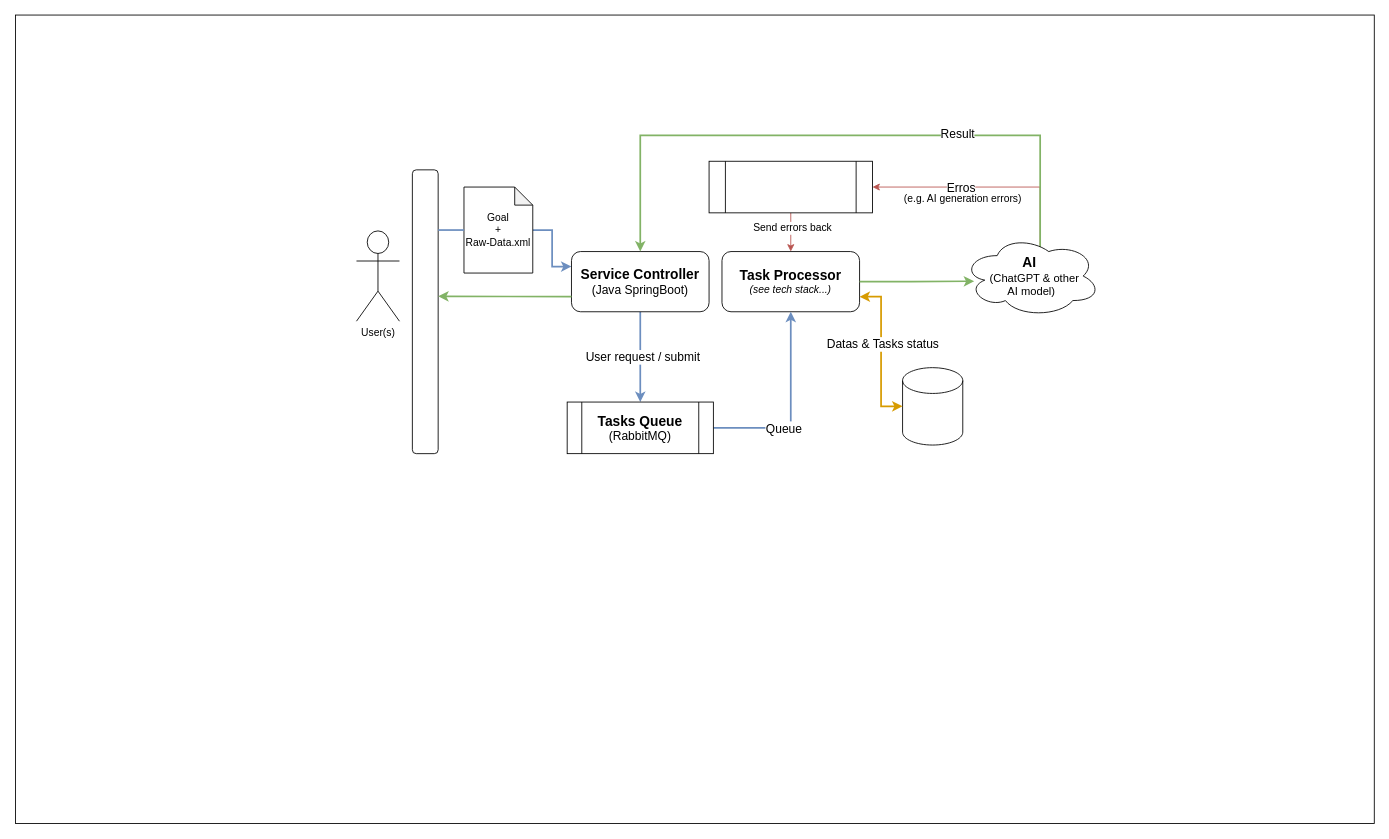
Image size: 1389x839. Some labels were removed from this diagram. Each missing label, with the box of its shape:
Database (MySQL): (902, 367, 963, 445)
Dead Letter Queue (RabbitMQ): (708, 160, 872, 213)
UI (React): (412, 169, 438, 454)
